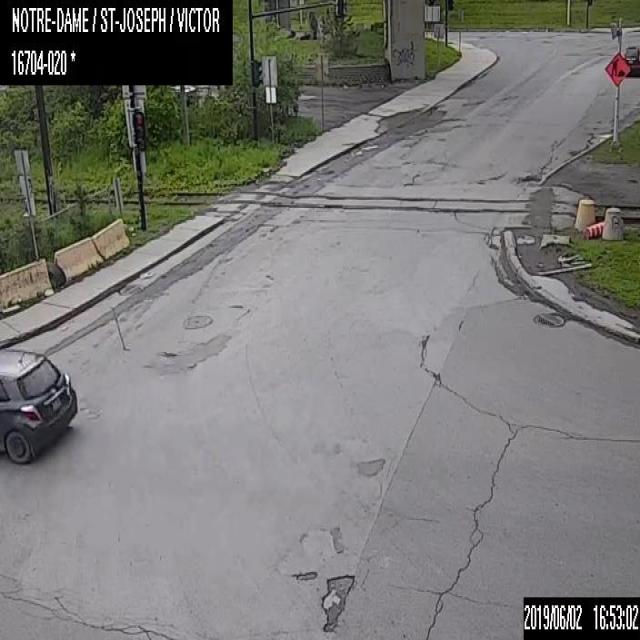construction: (604, 51, 630, 88), (584, 221, 605, 238)
vehicle: (0, 346, 77, 462), (623, 45, 639, 75)
